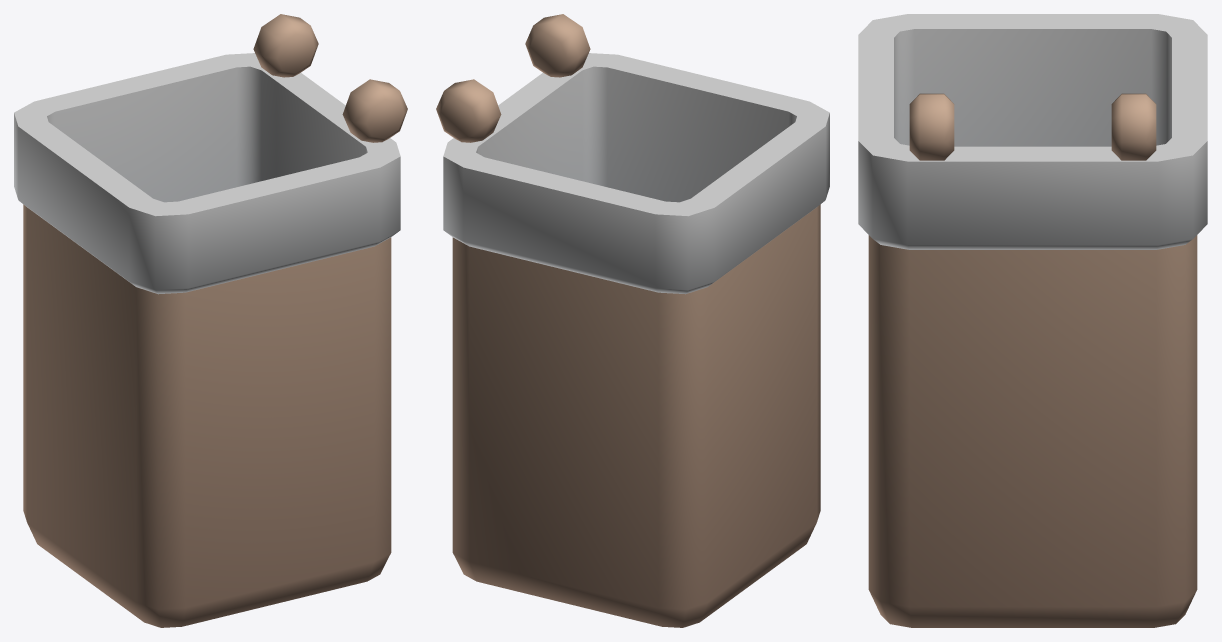
The model's file is hamper-laundry-basket.glb.
The picture shows the model from 3 angles, left to right: view 1: azimuth 30°, elevation 25°; view 2: azimuth 150°, elevation 25°; view 3: azimuth 270°, elevation 25°; orthographic projection. The views are drawn at different scales.
Parts seen in each view (by area): view 1: hamper-laundry-basket; view 2: hamper-laundry-basket; view 3: hamper-laundry-basket.
Part boxes in pixels (x1,y1,x2,y2): hamper-laundry-basket: (14,14,407,627); hamper-laundry-basket: (436,14,829,627); hamper-laundry-basket: (858,14,1207,627).
Bounding box in the file's own units: 0.3626 × 0.5899 × 0.3409.
